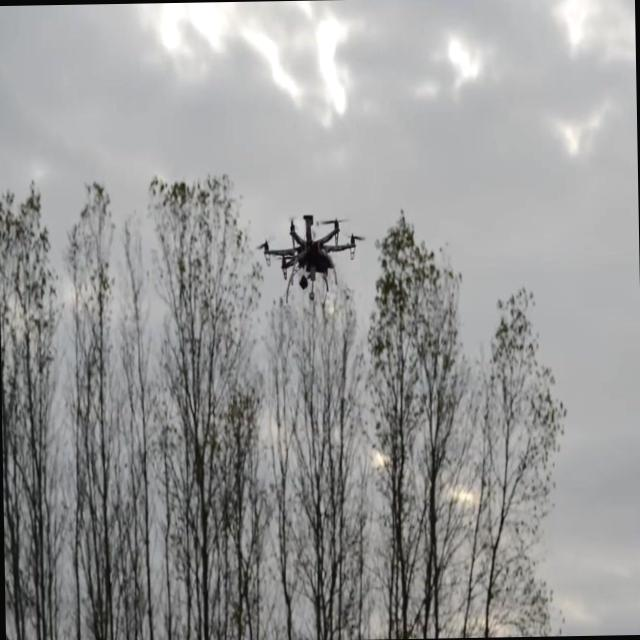drone: (257, 205, 364, 309)
